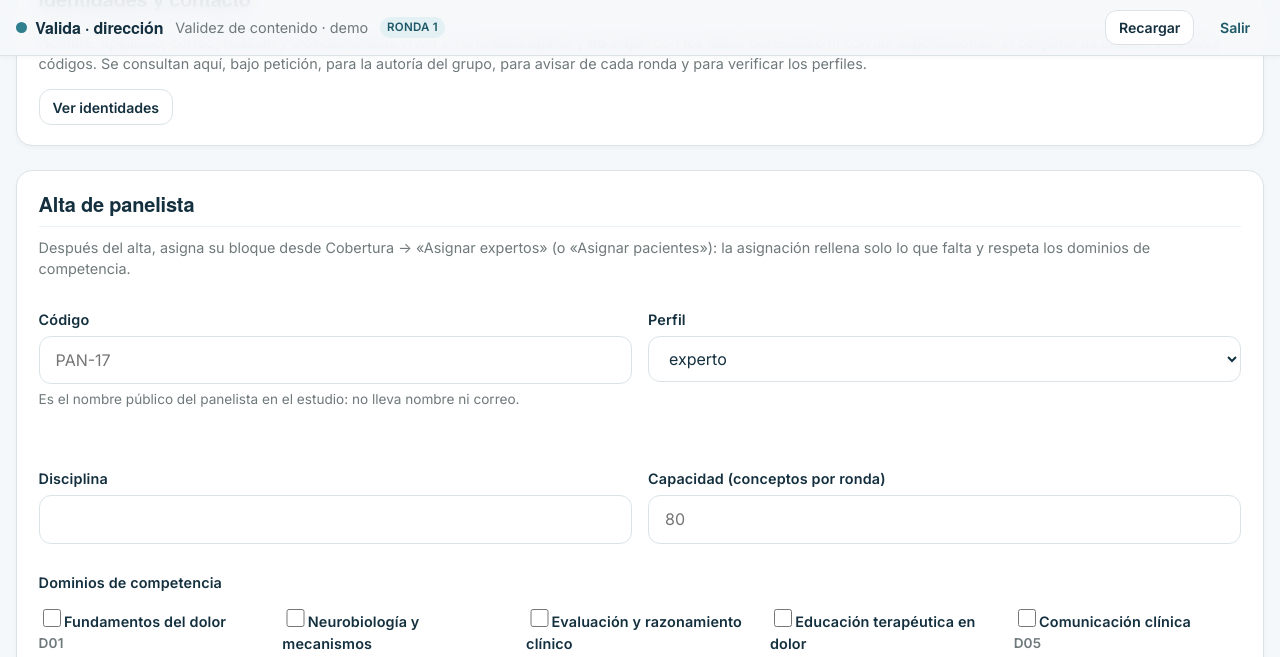
Test: alta de panelista con correo › con correo: lo guarda y dice que la clave se ha mandado
The width and height of the screenshot is (1280, 657).
(page scrolled)
Type "PAN-77" into the field labelled "Código". click: [335, 360]
box: left=39, top=336, right=632, bottom=384
(page scrolled)
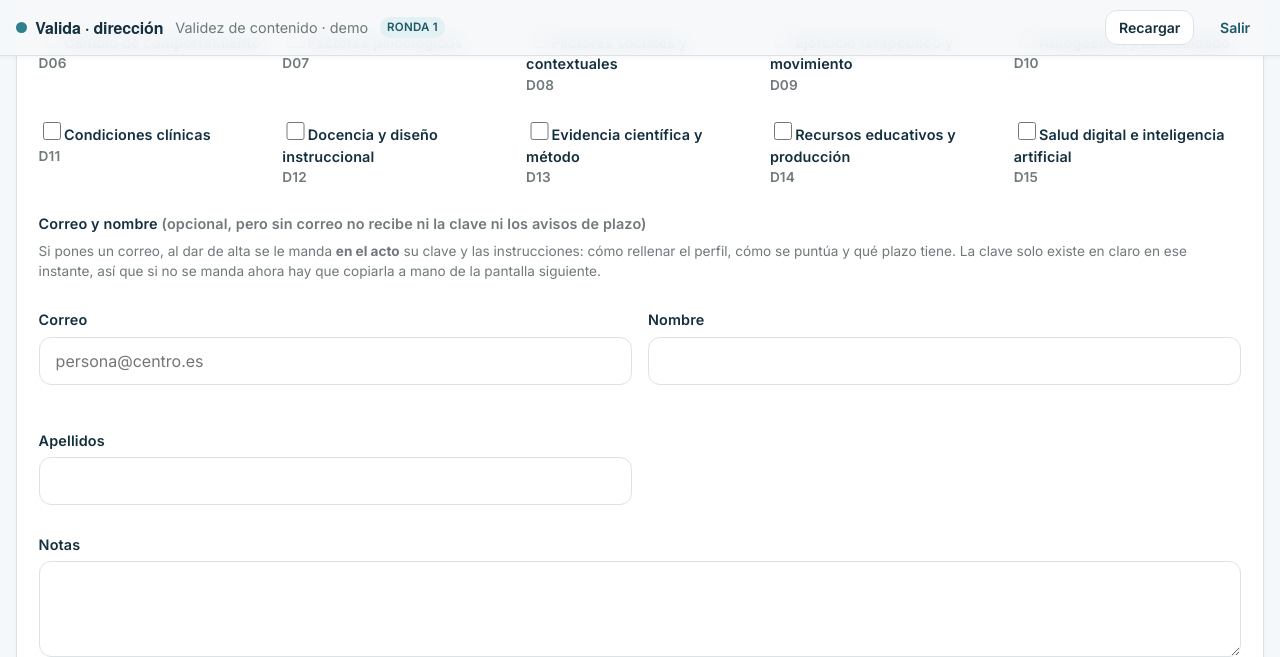
Type "nueva@ejemplo.org" into the field labelled "Correo". click: [335, 361]
box: left=39, top=337, right=632, bottom=385
(page scrolled)
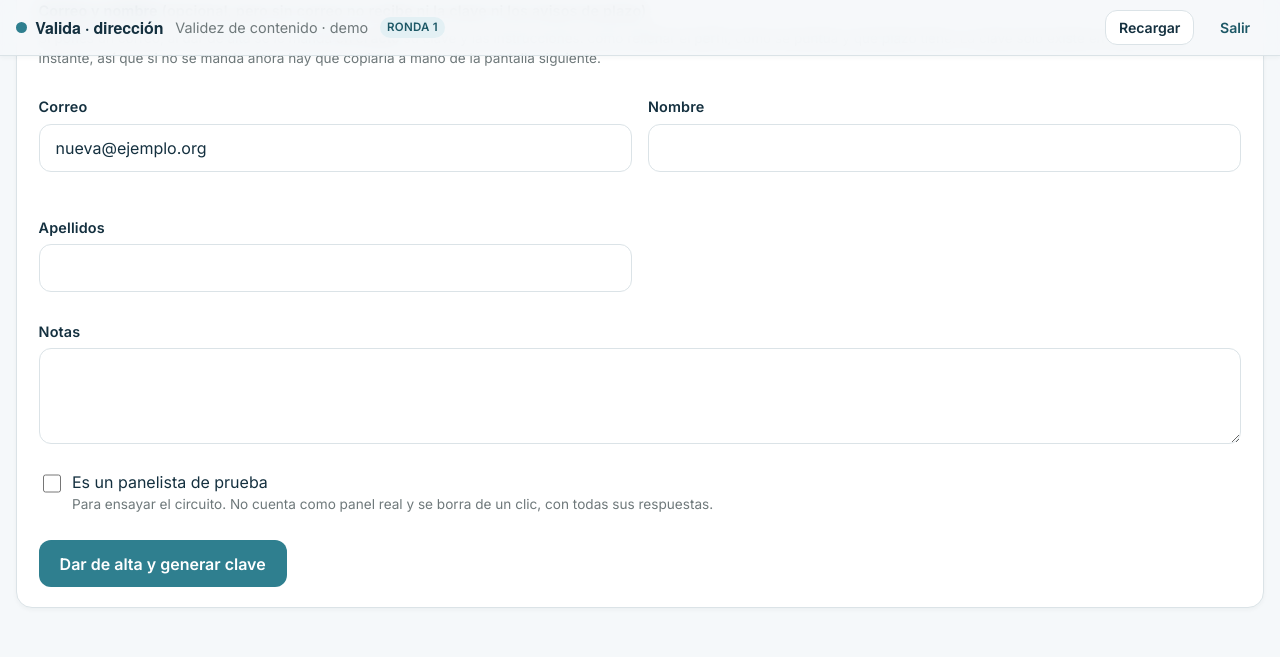
Click the button "Dar de alta y generar clave". click: [163, 564]
box: left=39, top=540, right=287, bottom=587
(page scrolled)
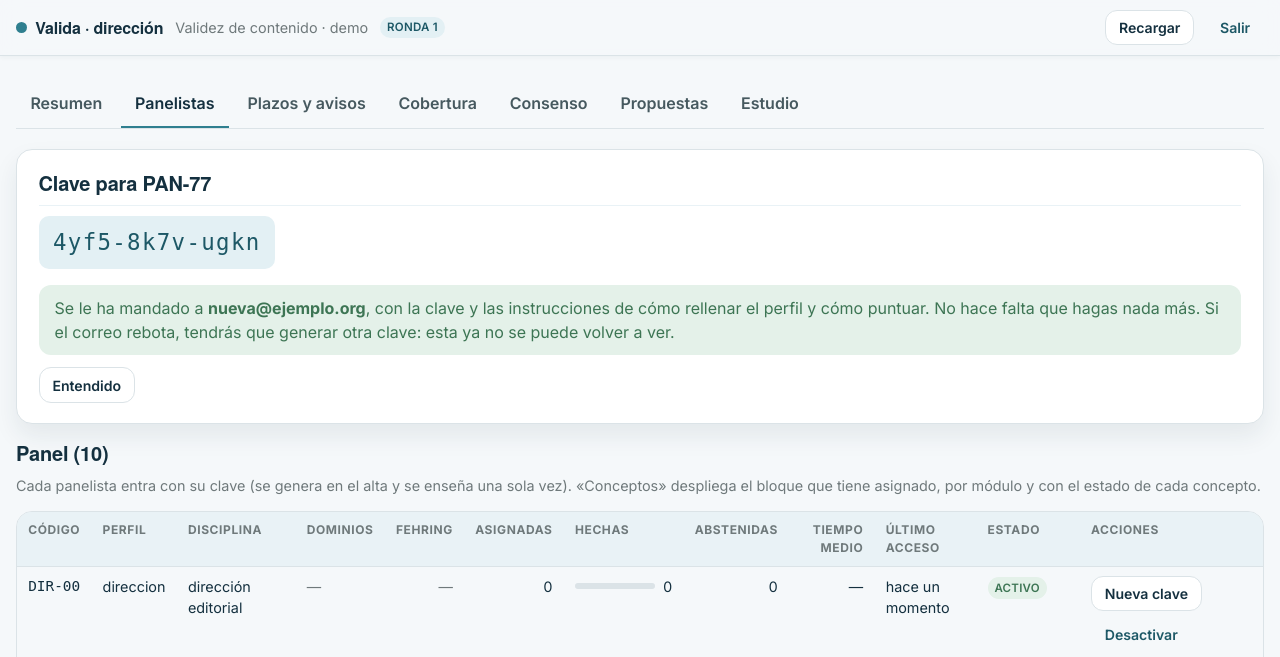
Check: the text "Se le ha mandado a" is shown, box left=55, top=298, right=208, bottom=318
Check: the text "nueva@ejemplo.org" is shown, box left=208, top=298, right=366, bottom=318
